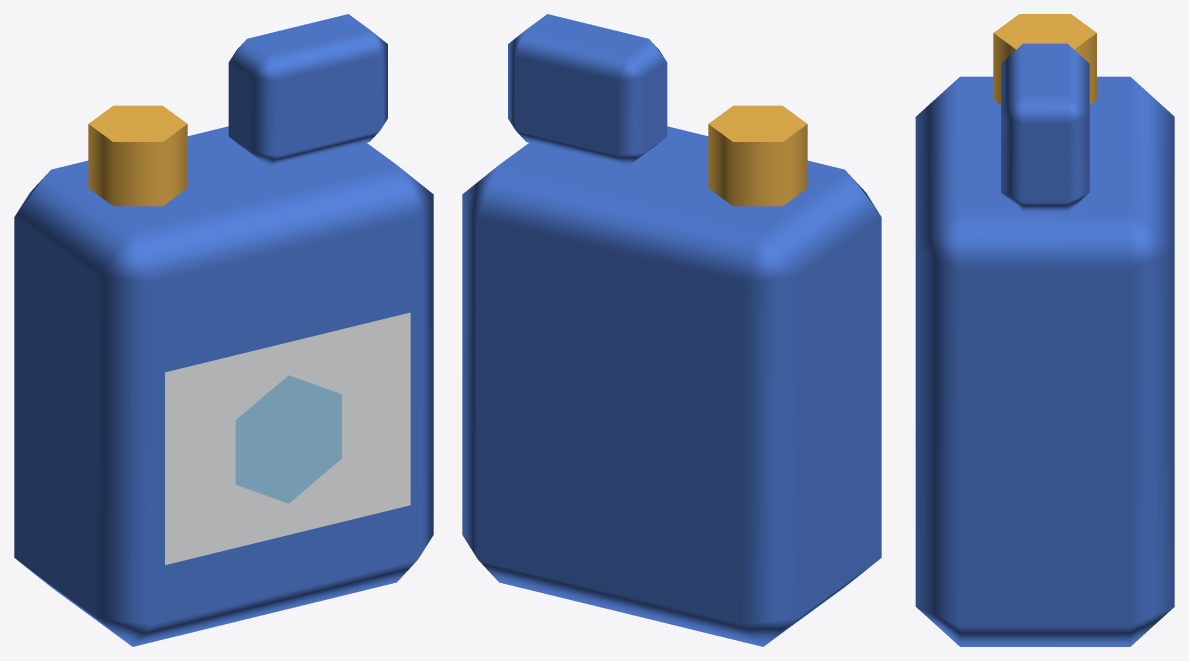
The model's file is CM_Product_DetergentJug.fbx.
The picture shows the model from 3 angles, left to right: view 1: azimuth 30°, elevation 25°; view 2: azimuth 150°, elevation 25°; view 3: azimuth 270°, elevation 25°; orthographic projection. The views are drawn at different scales.
Parts seen in each view (by area): view 1: DetergentJug; view 2: DetergentJug; view 3: DetergentJug.
Part boxes in pixels (x1,y1,x2,y2): DetergentJug: (14,14,433,646); DetergentJug: (462,14,881,646); DetergentJug: (915,14,1174,646).
Size of the model in its own units: 1.1 by 0.715 by 1.65.
Materials: 1 (1 with a texture image).
